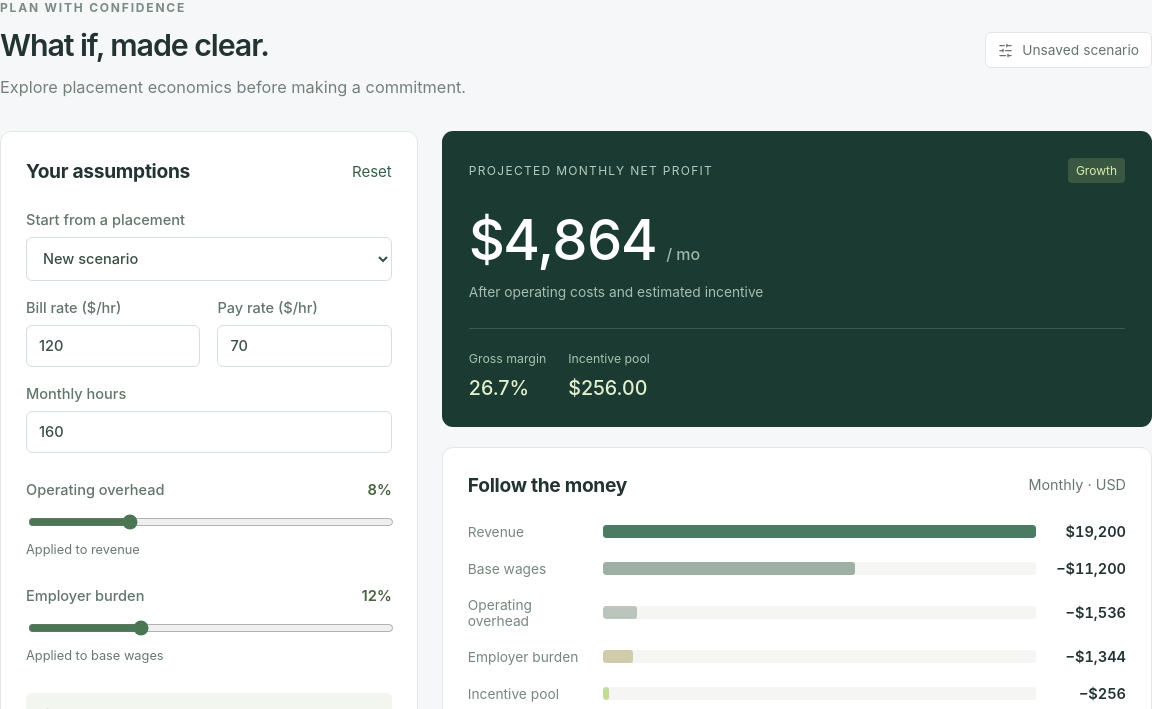
Test: recalculates scenarios without persisting them and handles blank input
Expected: the text "$4,864" is shown, 469,206 -> 656,274
Step 1. Clear the number field labelled "Bill rate ($/hr)" → (113, 346), box 26,325 -> 200,367
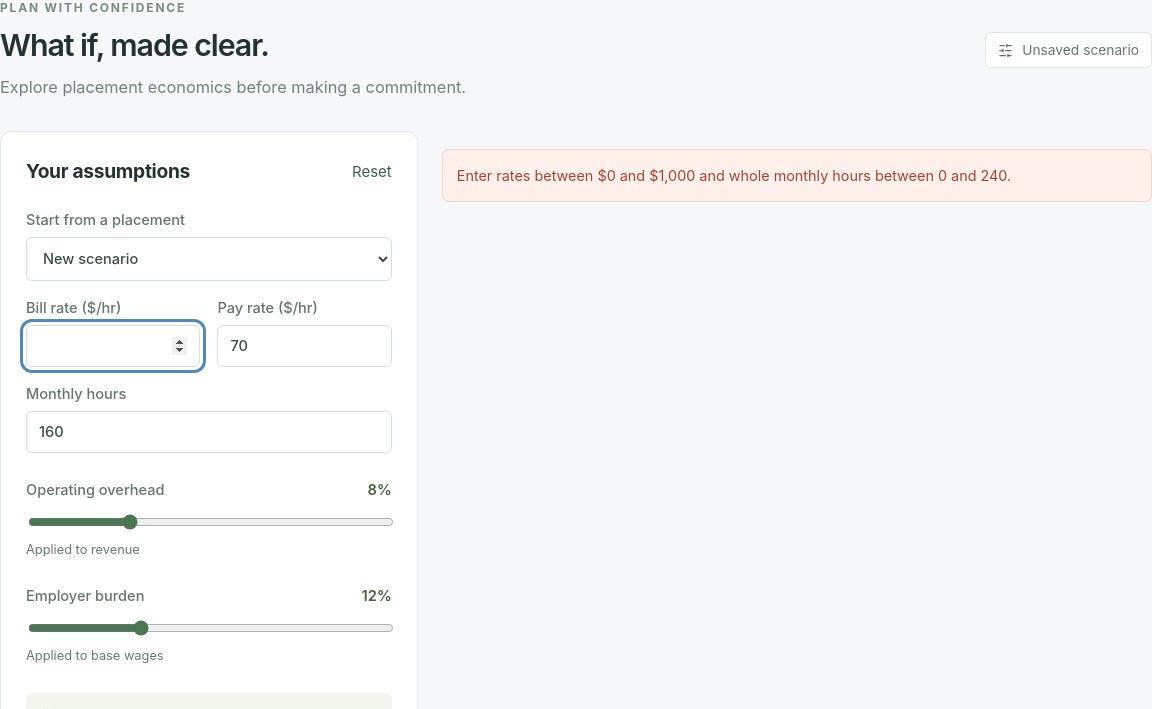
Expected: the message "Enter rates between $0 and $1,000 and whole monthly hours between 0 and 240." is shown, 442,149 -> 1151,202
Step 2. Type "140" into the number field labelled "Bill rate ($/hr)" → (113, 346), box 26,325 -> 200,367
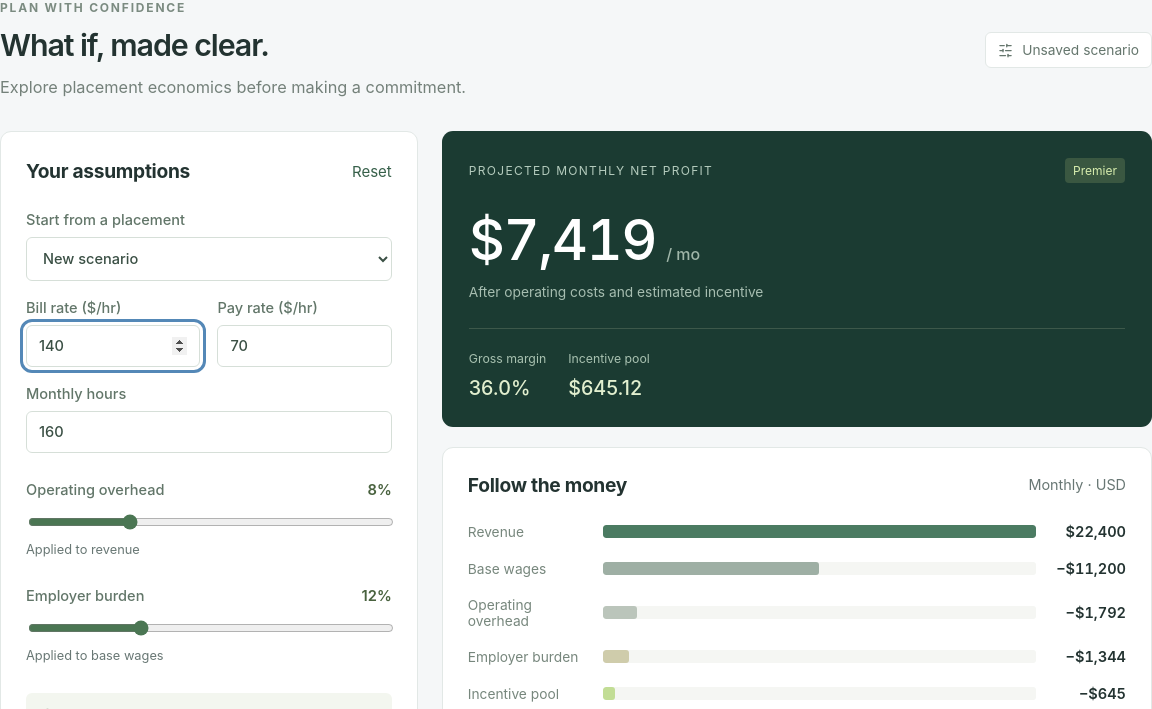
Expected: the text "$4,864" is not shown
Expected: the message "Enter rates between $0 and $1,000 and whole monthly hours between 0 and 240." is gone
